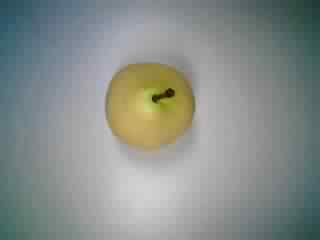pear: (96, 51, 201, 154)
